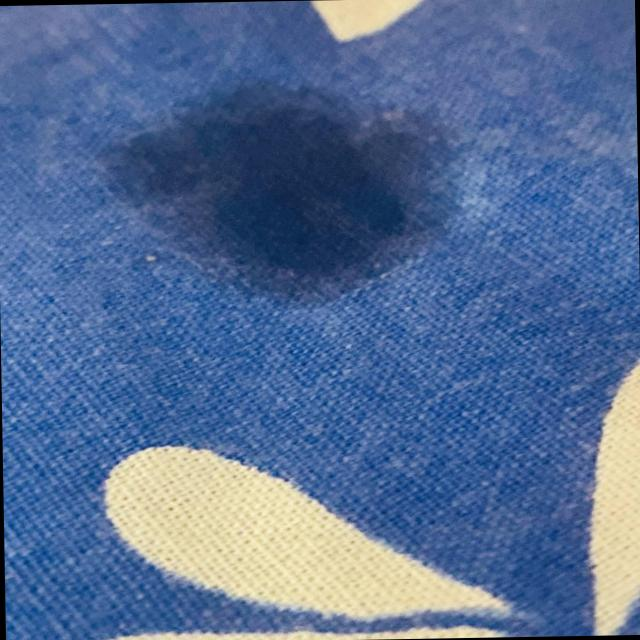stain: (90, 78, 467, 314)
